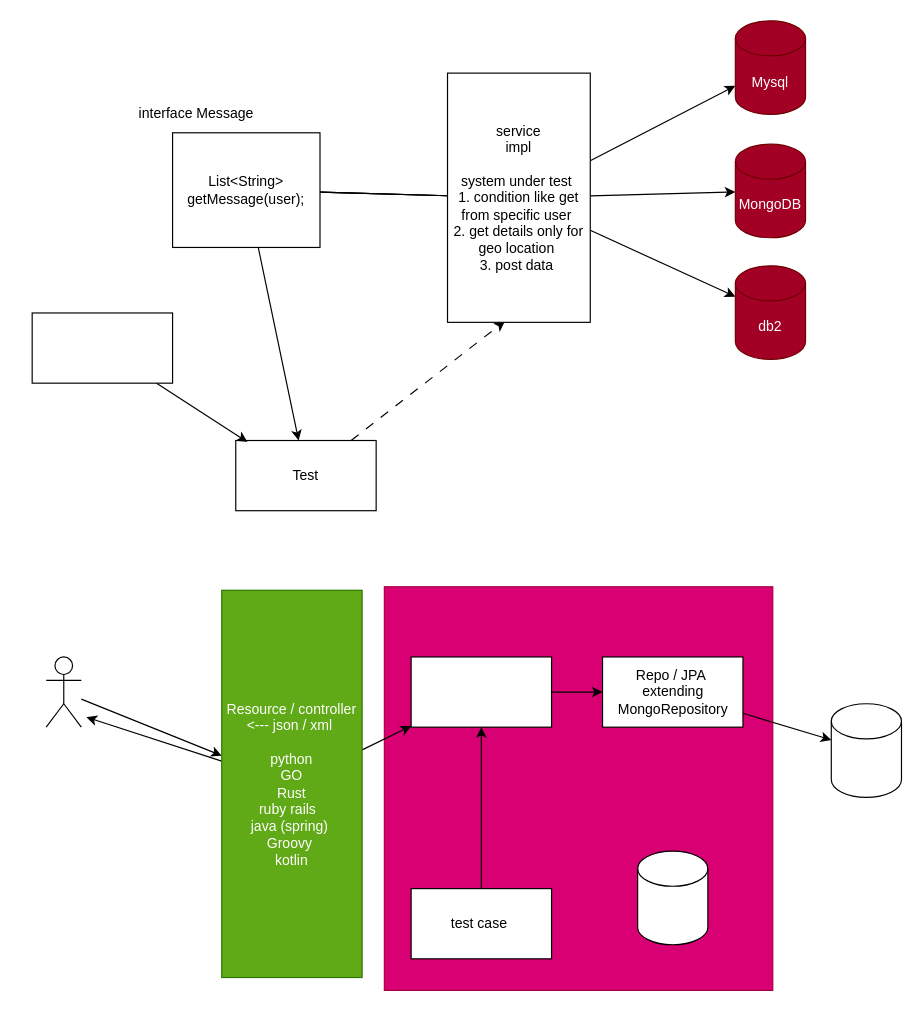
Image size: 922x1011. Some labels were removed from this diagram. Here are the shapes that lost their labels. From the top down, the centre of each, then its label:
At (102,347): "stub".
At (63,691): "Web Browser Postman httpclient ARC ....".
At (481,691): "Service Layer who does validation + checking".
At (865,750): "DB 27017 localhost".
At (672,897): "flapdoodle".
